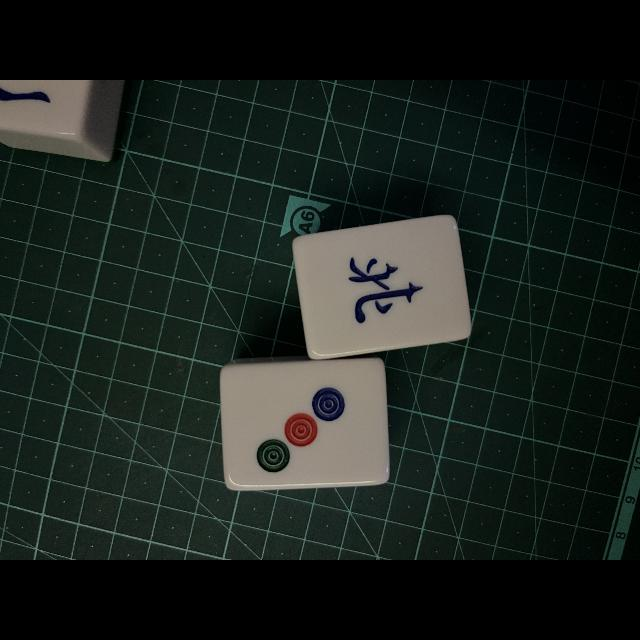d3: (223, 368, 384, 484)
wn: (307, 227, 461, 345)
